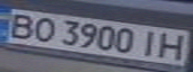0: (115, 25, 139, 55), (97, 24, 118, 52)
3: (54, 17, 81, 47)
9: (75, 20, 100, 50)
B: (0, 11, 39, 39)
H: (154, 30, 193, 61)
I: (136, 28, 163, 57)
O: (27, 15, 60, 43)
